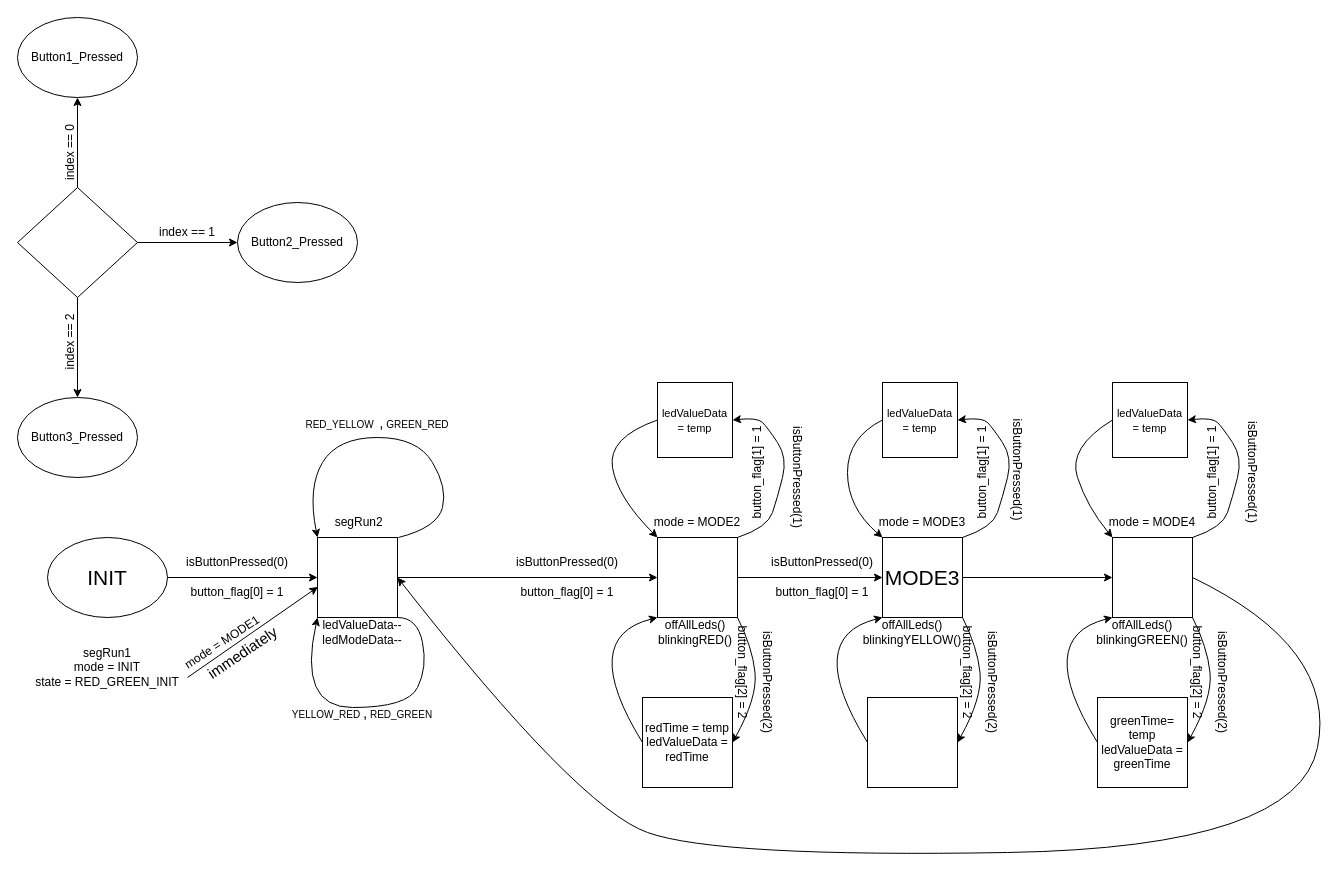
Image size: 1338x871. Some labels were removed from this diagram. The centre of each missing label's shape, as x and y in pixels:
"isButtonPress(int index" goes at [77,242].
"MODE1" goes at [357,577].
"MODE2" goes at [697,577].
"MODE4" goes at [1152,577].
"yellowTime = temp ledValueData = yellowTime" goes at [912,742].
